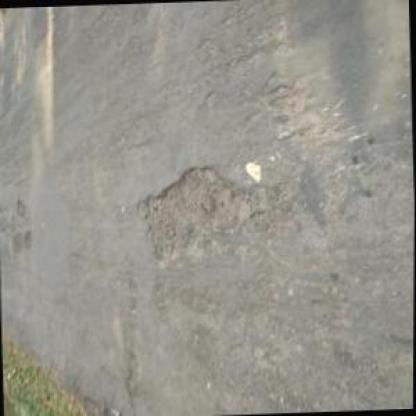pothole: (138, 161, 264, 266), (14, 198, 30, 218), (11, 230, 24, 252), (24, 228, 33, 249)
